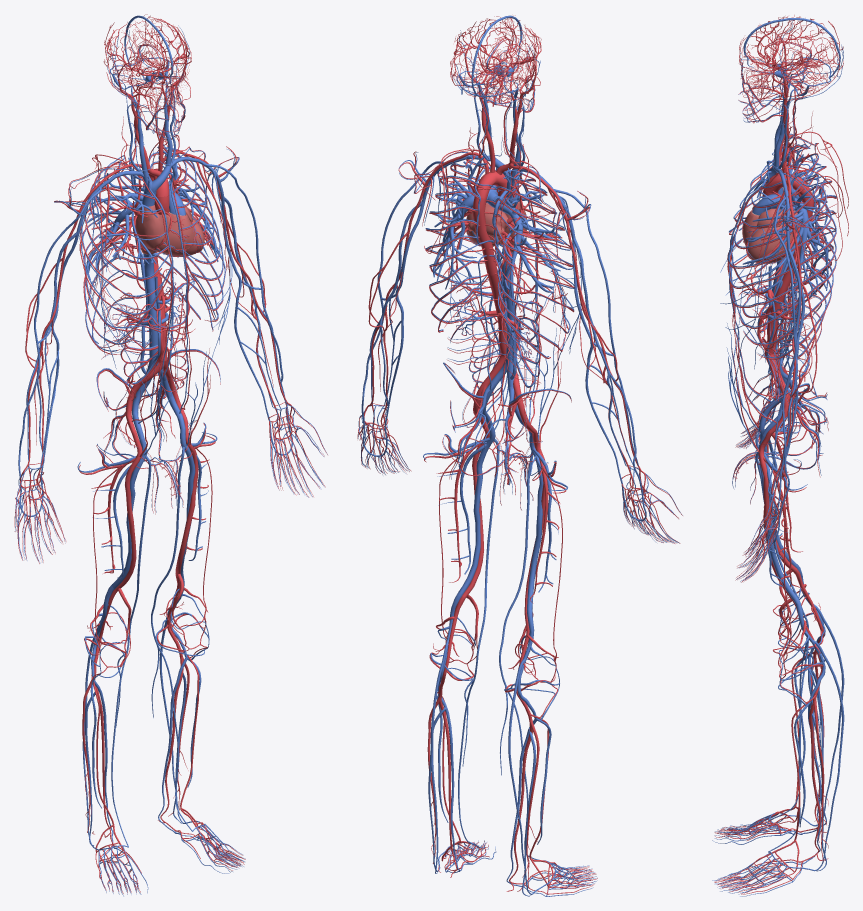
Rendered from vaisseaux.glb.
3 views of the same model, side by side, from view 1: azimuth 30°, elevation 25°; view 2: azimuth 150°, elevation 25°; view 3: azimuth 270°, elevation 25° (orthographic). The views are drawn at different scales.
Visible parts, largest first — view 1: Right superior intercostal vein, Posterior intercostal arteries.r, Left superior intercostal vein, Great saphenous vein.l, Great saphenous vein.r, Right atrium, Right ventricle, Femoral artery.r, Posterior intercostal arteries.l, Cephalic vein.r, Femoral artery.l, Cephalic vein.l (+2 smaller); view 2: Posterior intercostal arteries.r, Right superior intercostal vein, Left superior intercostal vein, Posterior intercostal arteries.l, Great saphenous vein.l, Great saphenous vein.r, Femoral vein.l, Femoral vein.r, Thoracic aorta, Cephalic vein.r, Basilic vein.r, Basilic vein.l (+4 smaller); view 3: Left superior intercostal vein, Posterior intercostal arteries.l, Cephalic vein.l, Right superior intercostal vein, Left ventricle, Small saphenous vein.l, Femoral artery.l, Great saphenous vein.r, Abdominal aorta, Small saphenous vein.r, Great saphenous vein.l, Posterior intercostal arteries.r (+24 smaller).
Part boxes in pixels (<box>): Right superior intercostal vein: <box>81,155,172,351</box>; Posterior intercostal arteries.r: <box>79,163,169,354</box>; Left superior intercostal vein: <box>144,147,225,330</box>; Great saphenous vein.l: <box>151,446,192,831</box>; Great saphenous vein.r: <box>111,455,151,846</box>; Right atrium: <box>135,205,170,254</box>; Right ventricle: <box>155,211,197,256</box>; Femoral artery.r: <box>115,431,142,590</box>; Posterior intercostal arteries.l: <box>149,153,225,331</box>; Cephalic vein.r: <box>18,187,101,488</box>; Femoral artery.l: <box>175,418,198,575</box>; Cephalic vein.l: <box>202,162,289,422</box>; Posterior intercostal arteries.r: <box>478,187,574,358</box>; Right superior intercostal vein: <box>492,170,574,357</box>; Left superior intercostal vein: <box>425,156,502,331</box>; Posterior intercostal arteries.l: <box>426,177,501,332</box>; Great saphenous vein.l: <box>458,439,499,845</box>; Great saphenous vein.r: <box>499,451,539,859</box>; Femoral vein.l: <box>458,423,495,594</box>; Femoral vein.r: <box>527,435,543,609</box>; Thoracic aorta: <box>472,196,497,275</box>; Cephalic vein.r: <box>554,189,643,496</box>; Basilic vein.r: <box>572,238,622,483</box>; Basilic vein.l: <box>384,202,424,426</box>; Left superior intercostal vein: <box>729,163,836,358</box>; Posterior intercostal arteries.l: <box>729,175,836,359</box>; Cephalic vein.l: <box>774,197,796,519</box>; Right superior intercostal vein: <box>729,144,836,304</box>; Left ventricle: <box>748,224,793,263</box>; Small saphenous vein.l: <box>803,640,844,871</box>; Femoral artery.l: <box>759,431,793,601</box>; Great saphenous vein.r: <box>755,432,820,820</box>; Abdominal aorta: <box>764,266,793,354</box>; Small saphenous vein.r: <box>803,604,844,826</box>; Great saphenous vein.l: <box>755,452,820,851</box>; Posterior intercostal arteries.r: <box>729,153,836,308</box>.
Size of the model in its own units: 0.664 by 1.7 by 0.2489.
